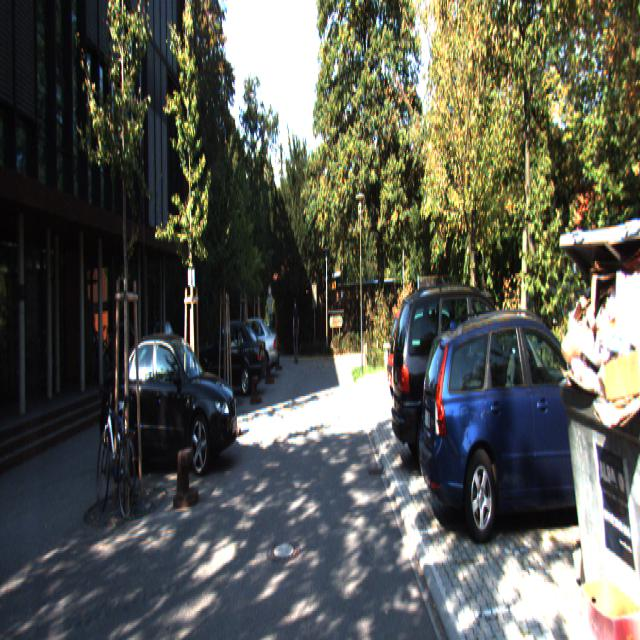Car: (415, 301, 639, 540), (388, 280, 545, 478), (97, 334, 239, 477), (194, 318, 267, 401), (219, 316, 277, 379)
